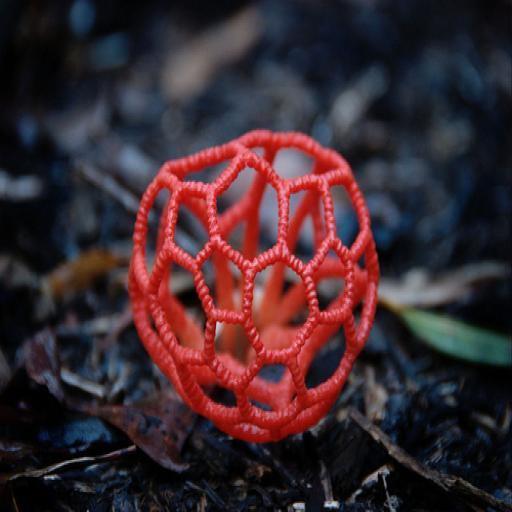mushroom: (133, 131, 388, 437)
